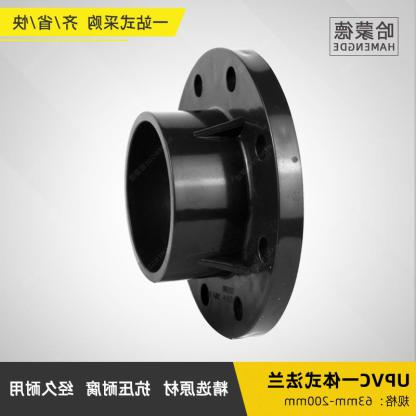FOD: (117, 40, 314, 346)
